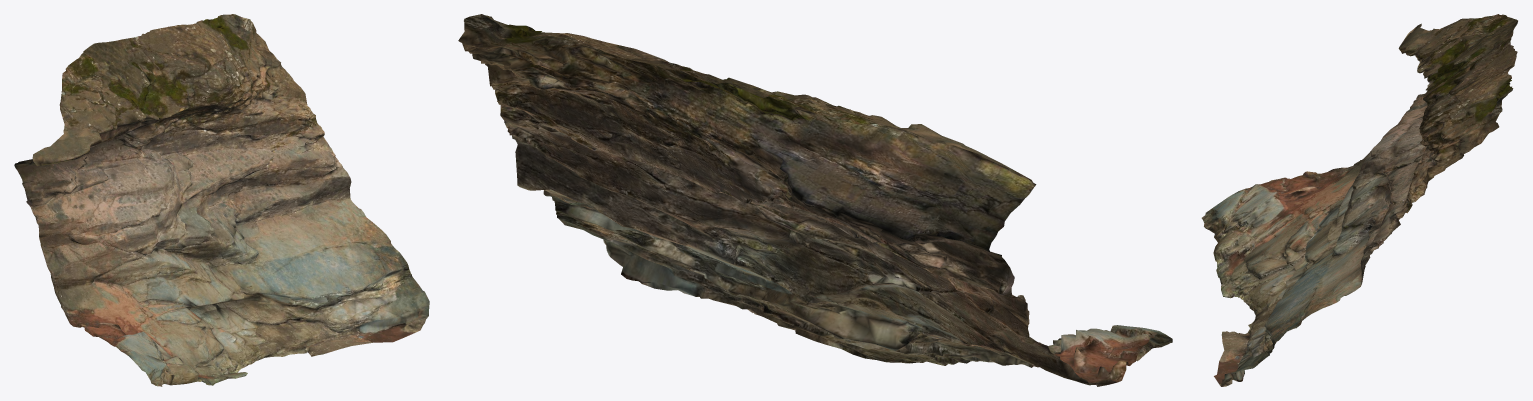
The model's file is rock_face_01.gltf.
3 views of the same model, side by side, from view 1: azimuth 30°, elevation 25°; view 2: azimuth 150°, elevation 25°; view 3: azimuth 270°, elevation 25° (orthographic). The views are drawn at different scales.
Visible parts, largest first — view 1: rock_face_01; view 2: rock_face_01; view 3: rock_face_01.
Boxes of the visible parts, x1,y1,x2,y2 form: rock_face_01: (14, 14, 429, 386); rock_face_01: (458, 14, 1172, 386); rock_face_01: (1201, 14, 1517, 386).
Size of the model in its own units: 4.95 by 3.56 by 3.83.
1 material, 1 textured.
